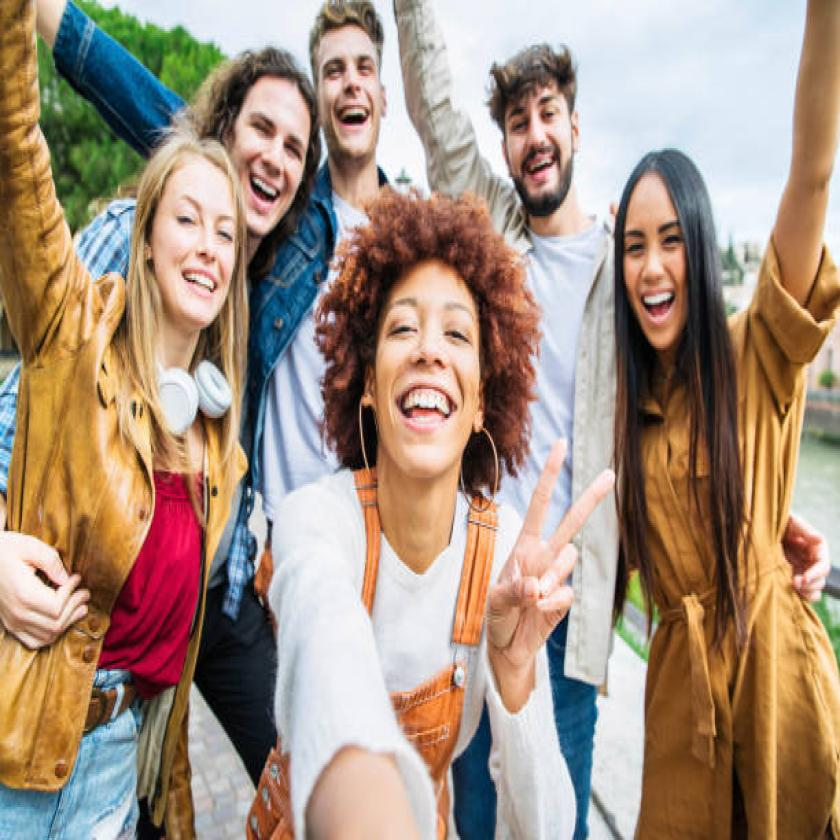Sin_casco: (303, 167, 548, 526), (118, 127, 252, 350), (607, 127, 719, 374), (215, 32, 318, 231), (483, 47, 592, 225), (303, 0, 392, 184)
